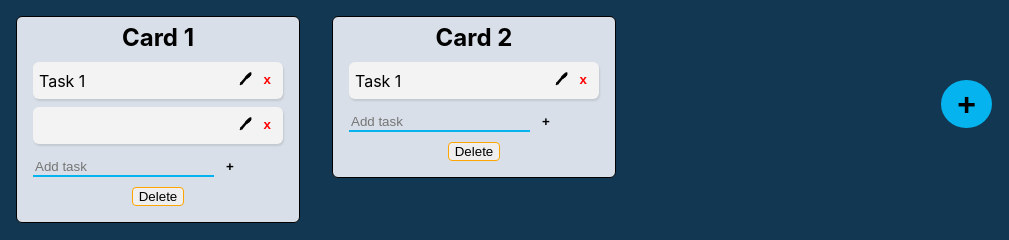
CardSlice › should delete a task
Click the button with test id "card-1-task-1-delete-task" at (267, 80), box [258,71,277,88]
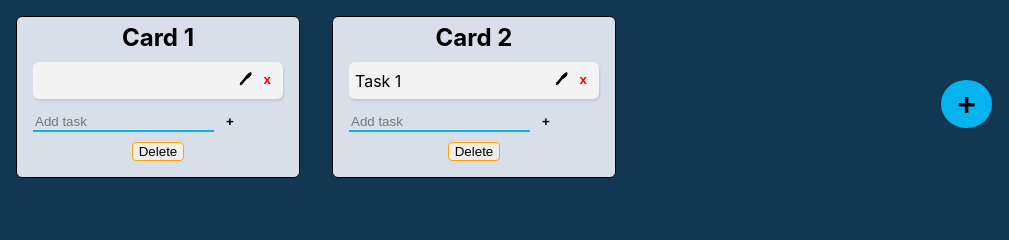
Check: the element with test id "card-1-task-1" is gone
